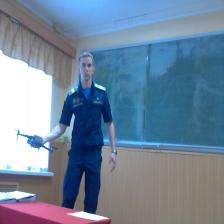drone: (12, 123, 62, 158)
